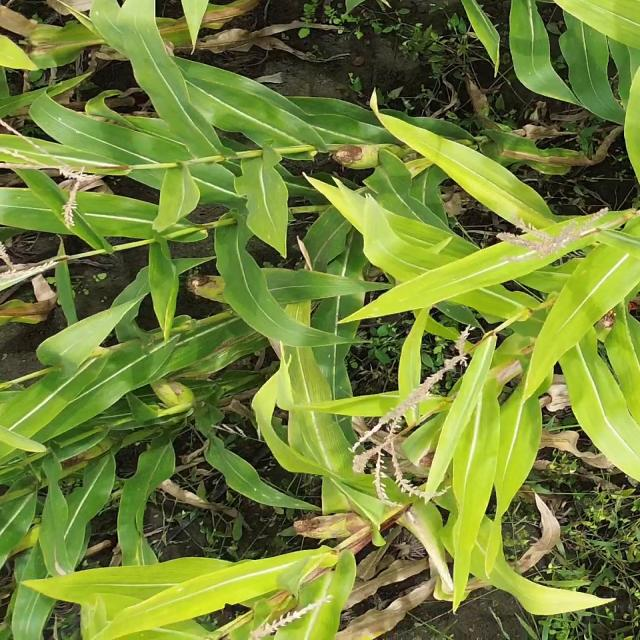gray-leaf-spot: (197, 329, 260, 368), (302, 213, 340, 250), (255, 486, 304, 512), (322, 279, 369, 298)
northern-leaf-blight: (31, 22, 185, 61), (406, 512, 459, 597), (489, 129, 582, 177), (38, 552, 76, 581)
